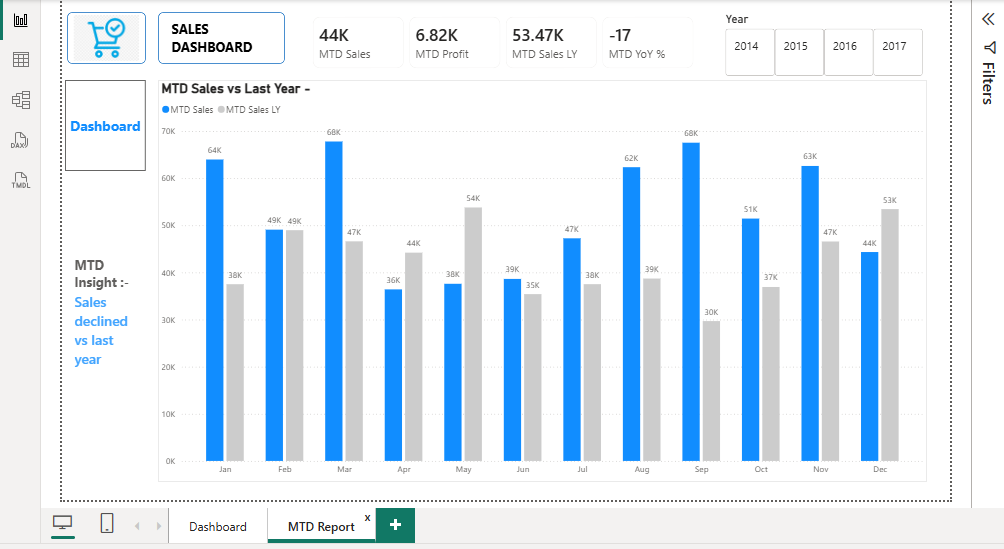

This screenshot's page, from the dashboard's own definition file:
{"tool":"powerbi","page":{"name":"MTD Report","canvas":[1280,720],"ordinal":1},"visuals":[{"type":"shape","box":[138.2,17.3,182.9,74.9],"z":0},{"type":"shape","box":[7.2,17.3,113.8,74.9],"z":1000},{"type":"cardVisual","fields":{"Data":["retail_sales_clean_data.MTD Sales","retail_sales_clean_data.MTD Profit","retail_sales_clean_data.MTD Sales LY","retail_sales_clean_data.MTD YoY %"]},"box":[344.2,7.2,583.2,108],"z":2000},{"type":"clusteredColumnChart","fields":{"Category":["Date Table.Month"],"Y":["retail_sales_clean_data.MTD Sales","retail_sales_clean_data.MTD Sales LY"]},"box":[138.2,115.2,1107.4,578.9],"z":3000},{"type":"cardVisual","fields":{"Data":["Date Table.MTD Insight"]},"box":[0,260.6,125.3,433.4],"z":4000},{"type":"pageNavigator","box":[4.3,115.2,116.6,131],"z":5000},{"type":"image","box":[13,21.6,102.2,66.2],"z":6000},{"type":"textbox","box":[152.6,24.5,154.1,63.4],"z":7000},{"type":"advancedSlicerVisual","fields":{"Values":["Date Table.Year Hierarchy.Year"]},"box":[950.4,17.3,295.2,97.9],"z":8000}]}

Visuals, with their boxes on the page's 1280x720 design canvas (x1, y1, x2, y2). These are canvas units, not pixel positions in the 1004x549 screenshot, which may show the page scaled, cropped or inside an application window:
shape: box(138, 17, 321, 92)
shape: box(7, 17, 121, 92)
cardVisual - retail_sales_clean_data.MTD Sales x retail_sales_clean_data.MTD Profit: box(344, 7, 927, 115)
clusteredColumnChart - Date Table.Month x retail_sales_clean_data.MTD Sales: box(138, 115, 1246, 694)
cardVisual - Date Table.MTD Insight: box(0, 261, 125, 694)
pageNavigator: box(4, 115, 121, 246)
image: box(13, 22, 115, 88)
textbox: box(153, 24, 307, 88)
advancedSlicerVisual - Date Table.Year Hierarchy.Year: box(950, 17, 1246, 115)
